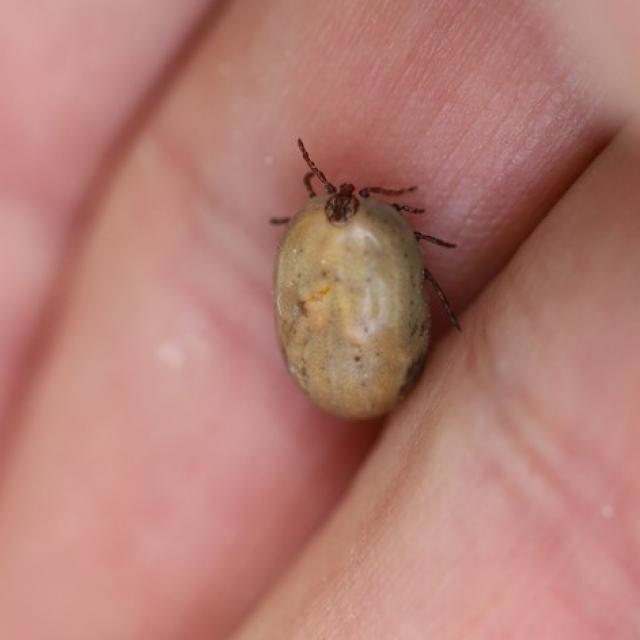Dermacentor Reticulatus-F-Fed: (269, 139, 462, 421)
